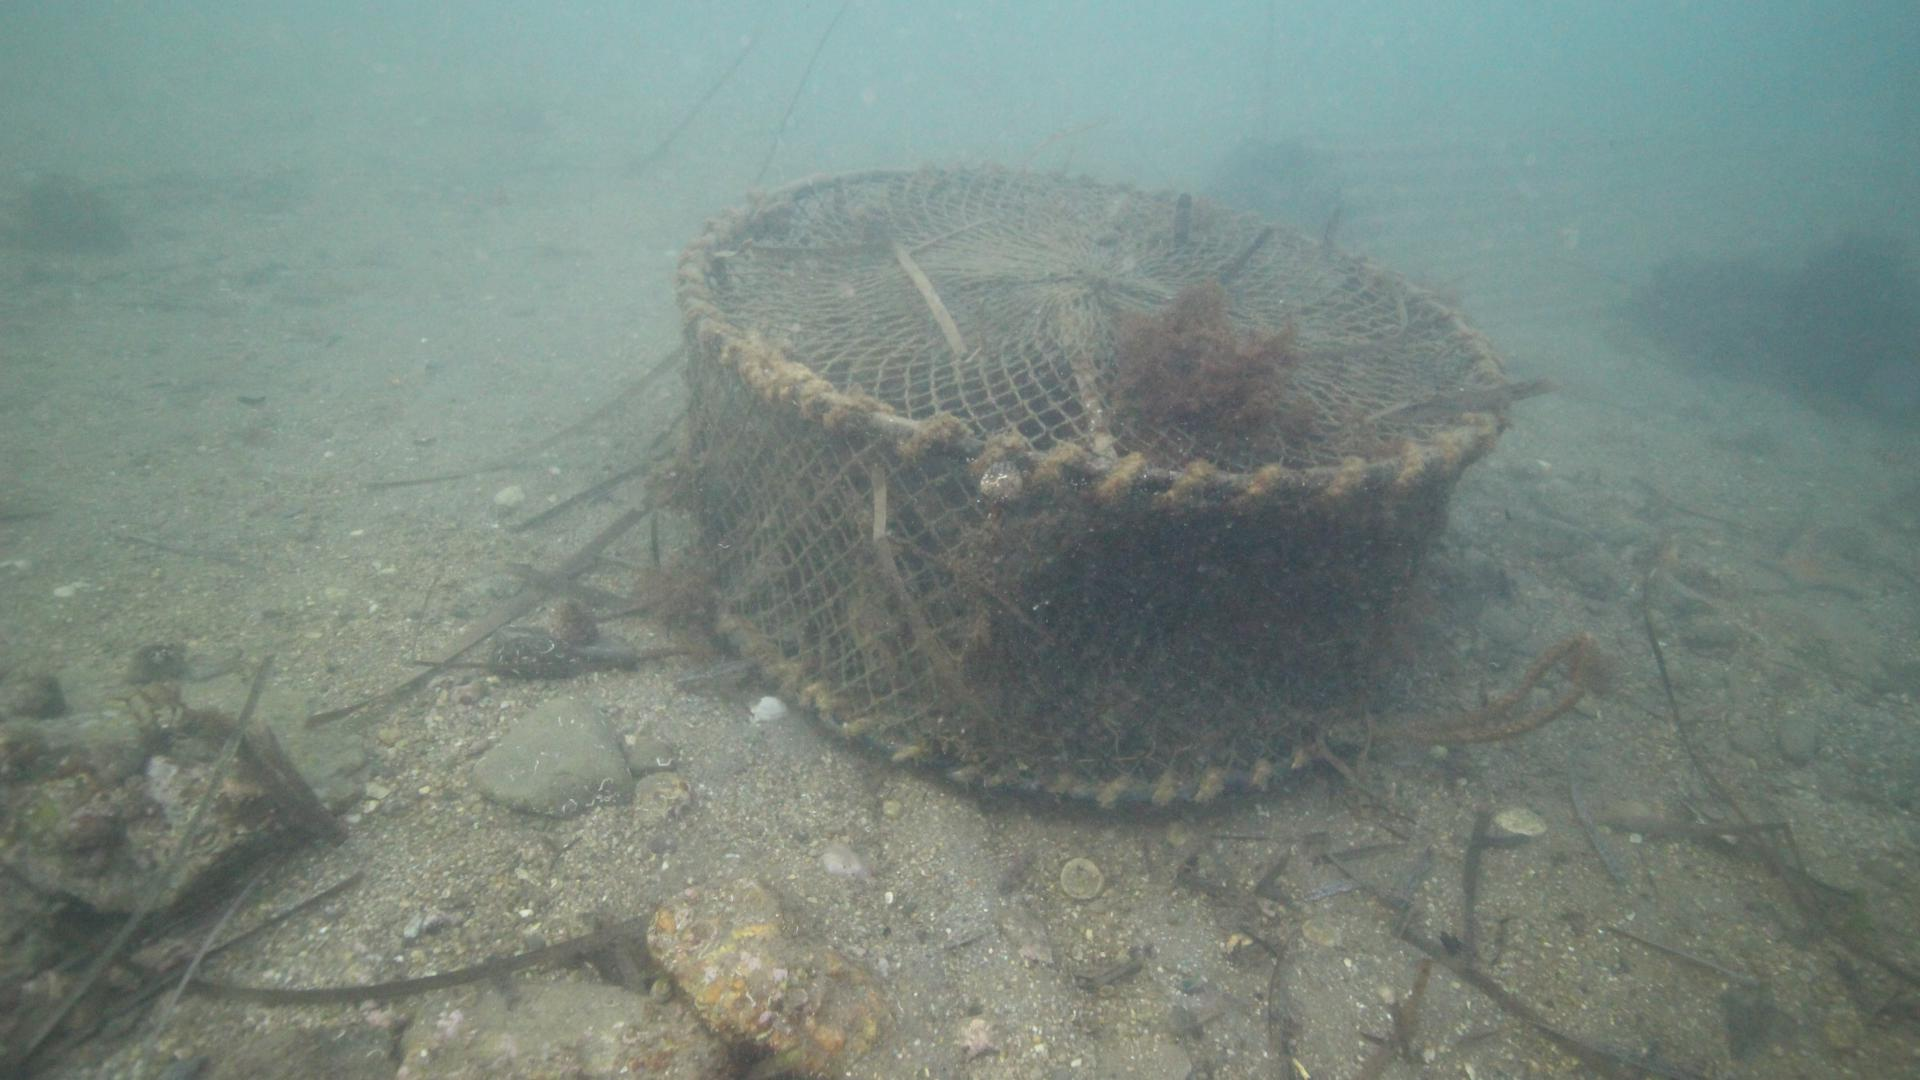circular fish trap: (673, 162, 1507, 806)
rope: (1390, 625, 1601, 746)
